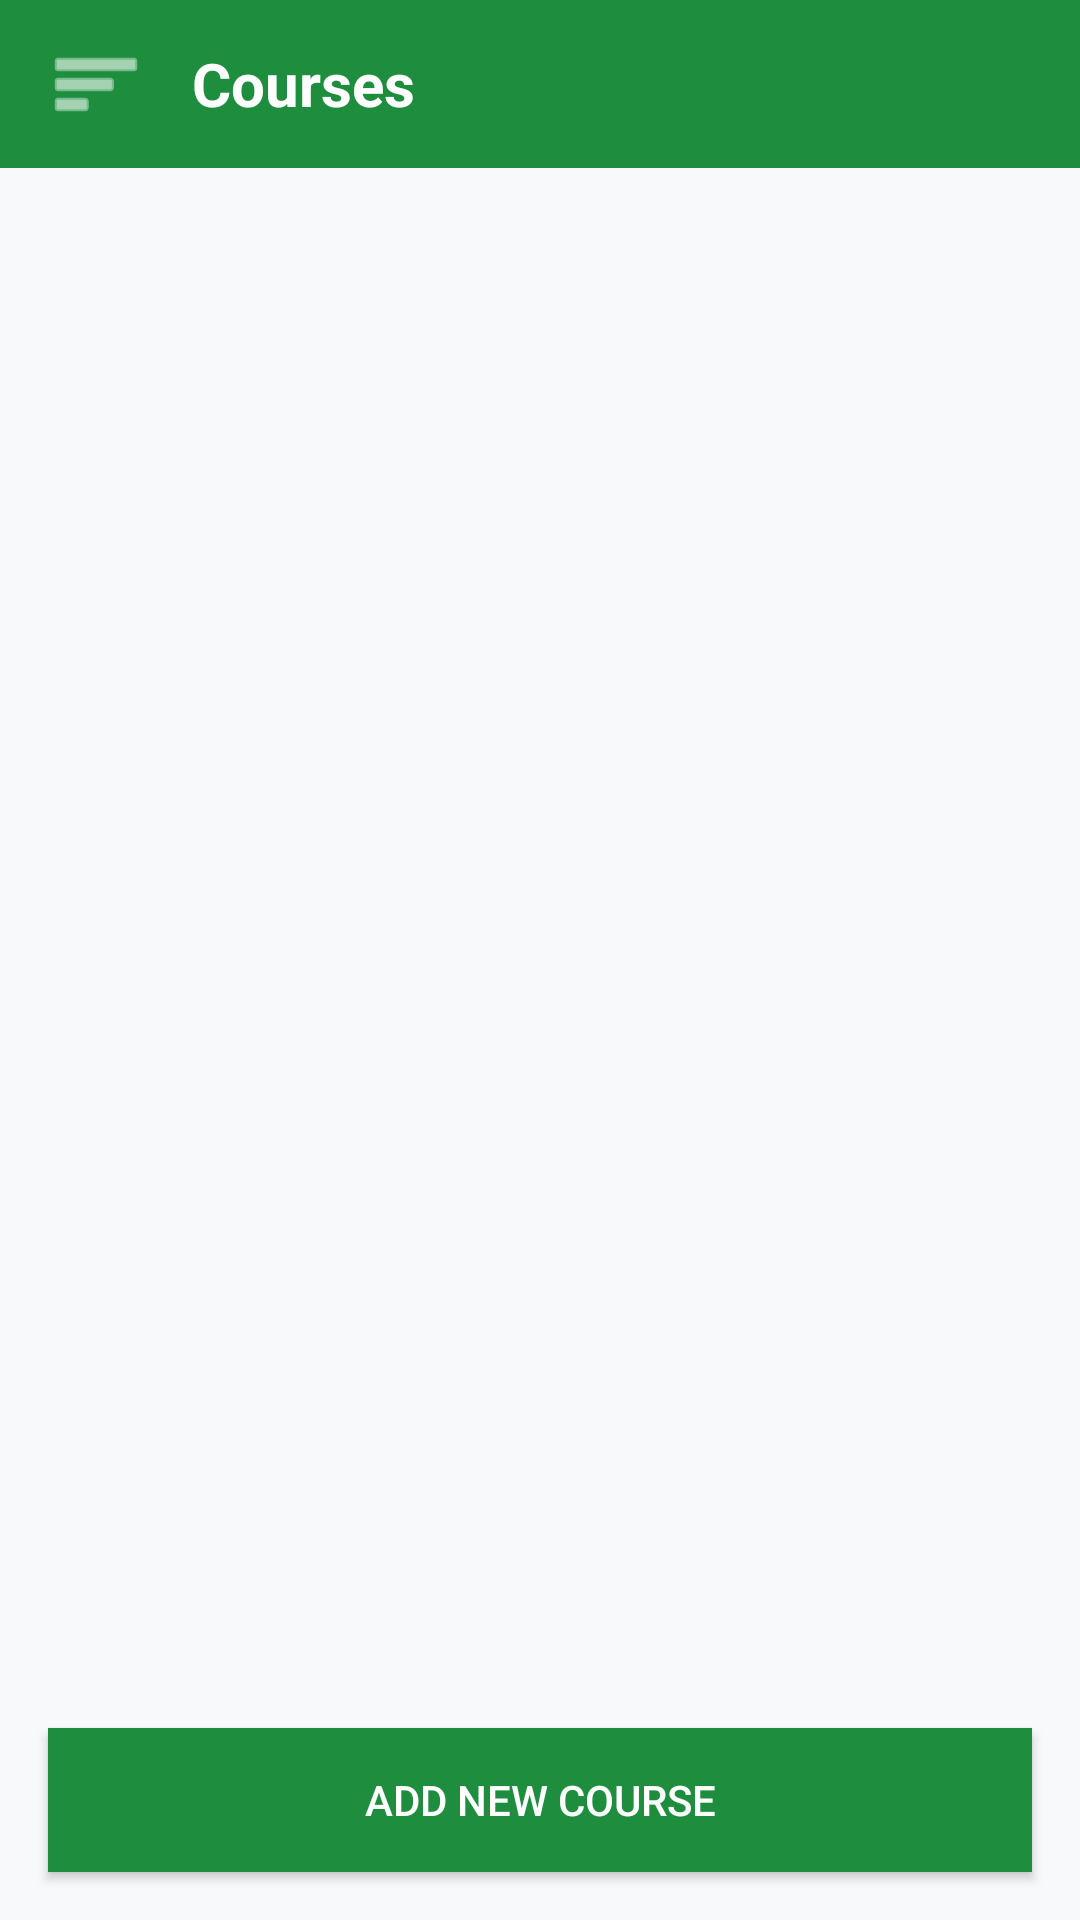

Named icons in this screenshot (1080px×1920px) and their bounding boxes, (x1, y1, x2, y2):
Open Menu: (55, 58, 137, 111)
